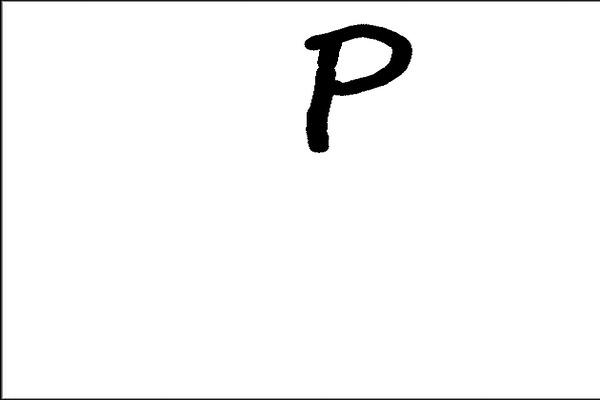P: (297, 17, 415, 160)
